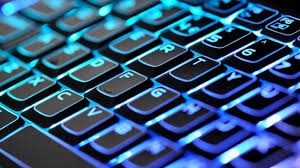keyboard: (0, 0, 300, 168)
